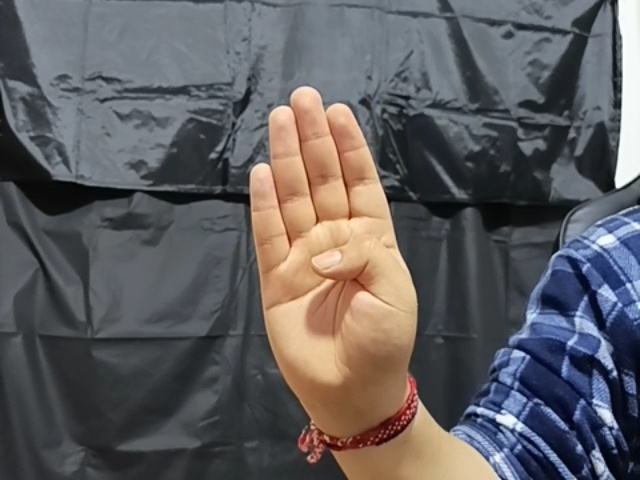B: (242, 85, 429, 401)
